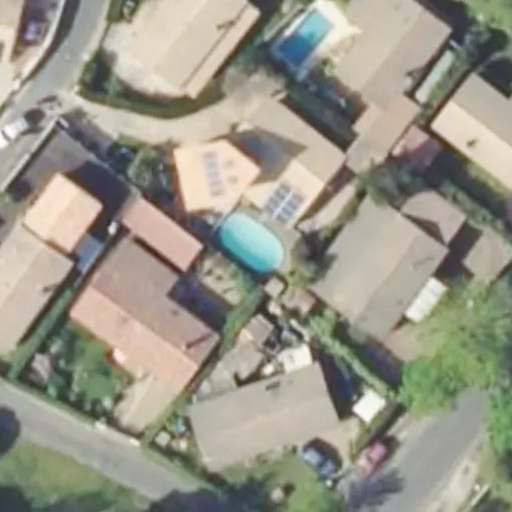pool: (218, 210, 283, 278), (276, 7, 332, 67)
